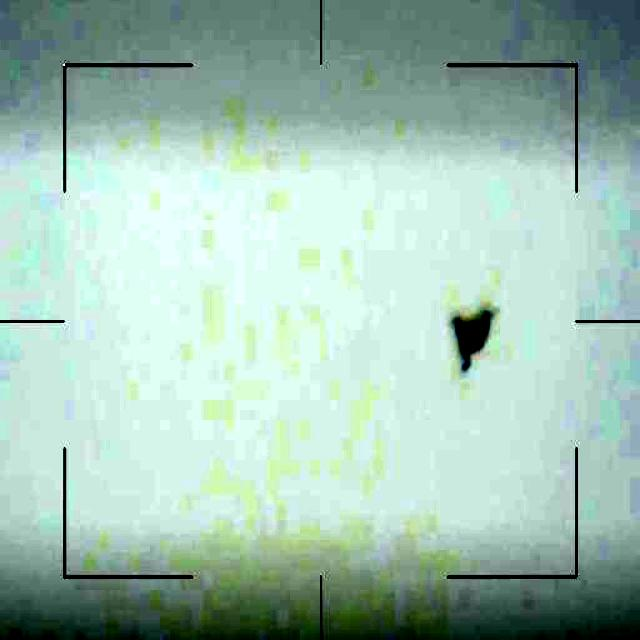bird: (445, 299, 499, 375)
